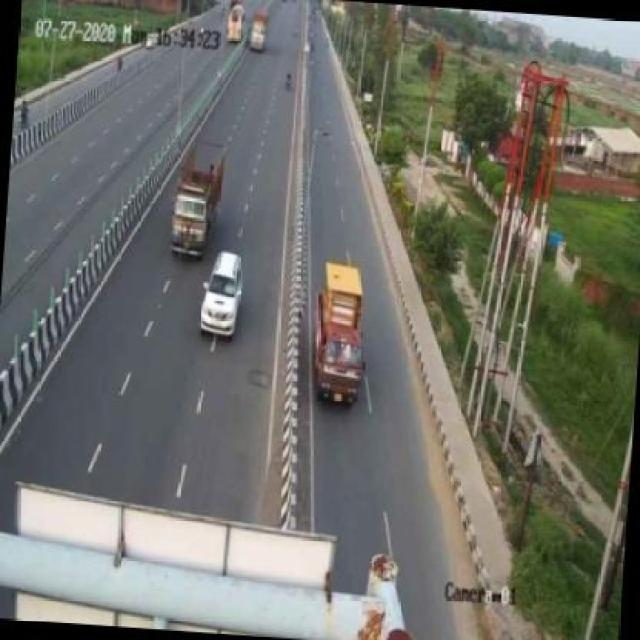car: (196, 245, 244, 346)
